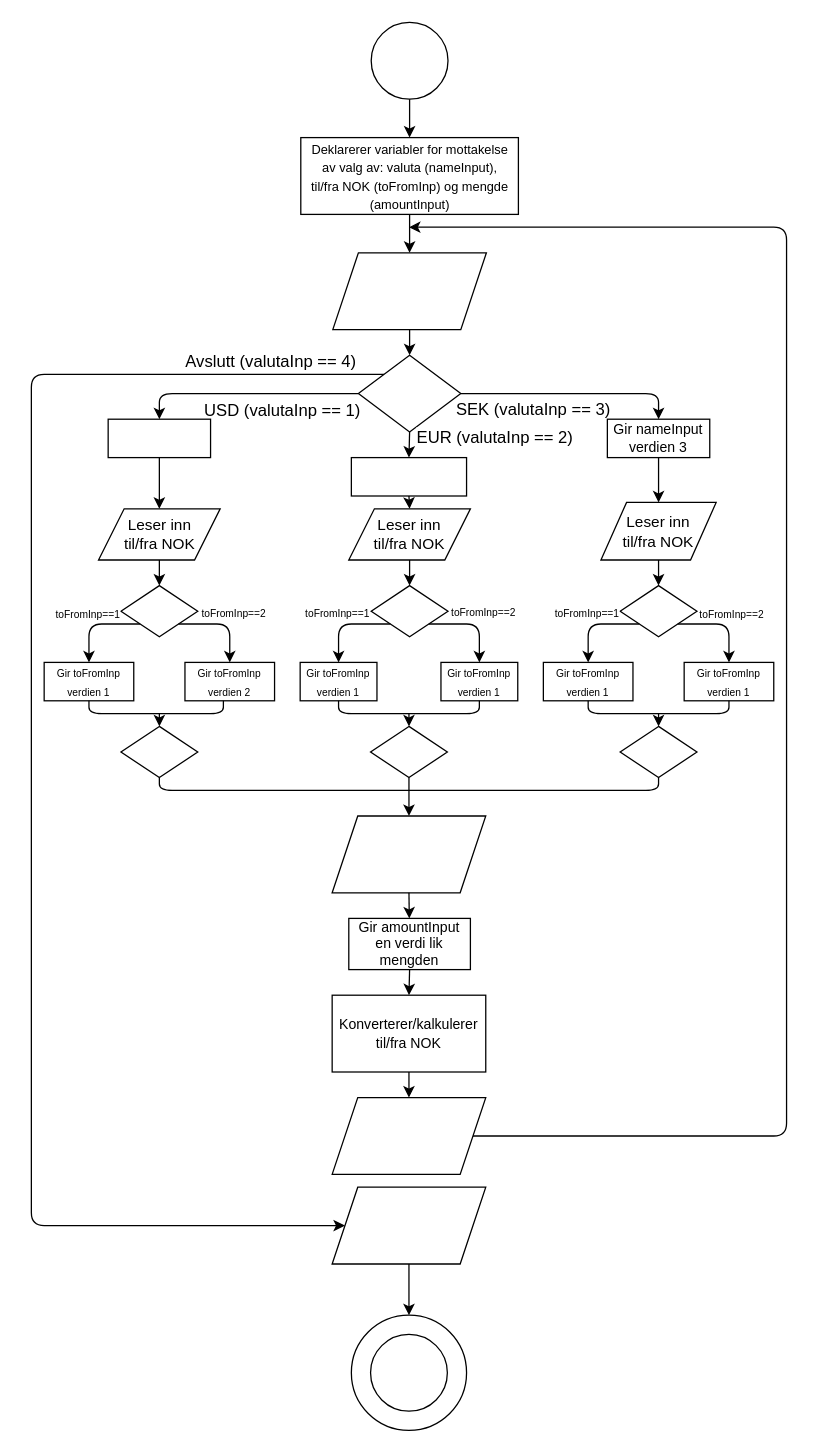
Some shapes in this 819 by 1453 pixel diagram are drawn without their labels. Here are the shapes that lost their labels. From the top down, the centre of each, then its label:
the point at 409,291: Leser inn valuta
the point at 159,438: Gir nameInput verdien 1
the point at 408,476: Gir nameInput verdien 2
the point at 408,854: Leser inn ønsket mengde
the point at 408,1135: Skriver ut resultat av kalkuleringen
the point at 408,1225: Skriver ut en takk til brukeren
